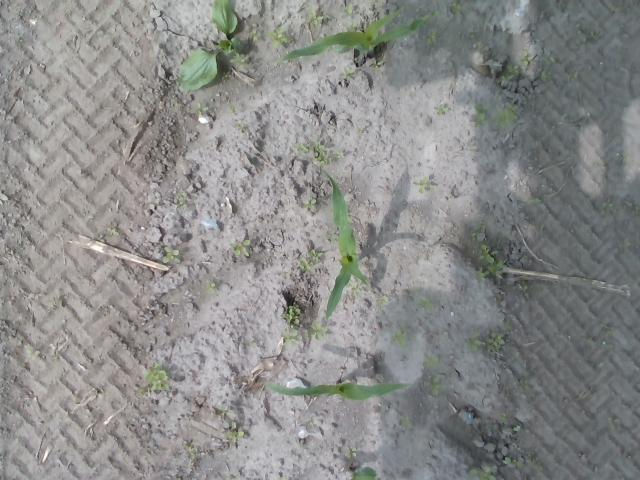Maize: (276, 0, 429, 63), (317, 164, 370, 326), (266, 378, 412, 403), (344, 463, 374, 480)
Weeds: (175, 0, 260, 92), (469, 220, 507, 278), (136, 361, 170, 398), (296, 140, 334, 166), (280, 303, 302, 345), (466, 332, 504, 353), (296, 248, 322, 272), (574, 22, 604, 42), (432, 382, 462, 399), (222, 420, 245, 442), (495, 106, 518, 128), (267, 26, 289, 48), (468, 463, 496, 480), (302, 320, 328, 338), (502, 455, 530, 471), (230, 239, 251, 257), (94, 227, 119, 242), (308, 8, 330, 25), (161, 245, 180, 264), (472, 104, 486, 128), (502, 62, 519, 81), (392, 329, 408, 347), (416, 296, 434, 312), (174, 191, 187, 210), (414, 177, 429, 192), (600, 200, 616, 214), (542, 48, 556, 63), (606, 416, 620, 431), (606, 0, 622, 13), (525, 195, 543, 206), (423, 356, 440, 367), (450, 1, 464, 14), (206, 280, 218, 295), (399, 416, 414, 428), (519, 51, 530, 67), (195, 102, 208, 115), (426, 32, 438, 46), (371, 58, 383, 72), (540, 70, 554, 81), (515, 280, 528, 291), (350, 282, 360, 296), (502, 318, 512, 332), (497, 412, 508, 424), (566, 71, 580, 80), (304, 198, 316, 208), (436, 104, 448, 114), (346, 447, 358, 457), (519, 382, 530, 392), (342, 69, 353, 79), (343, 5, 353, 16), (187, 447, 199, 455), (229, 104, 238, 112)
